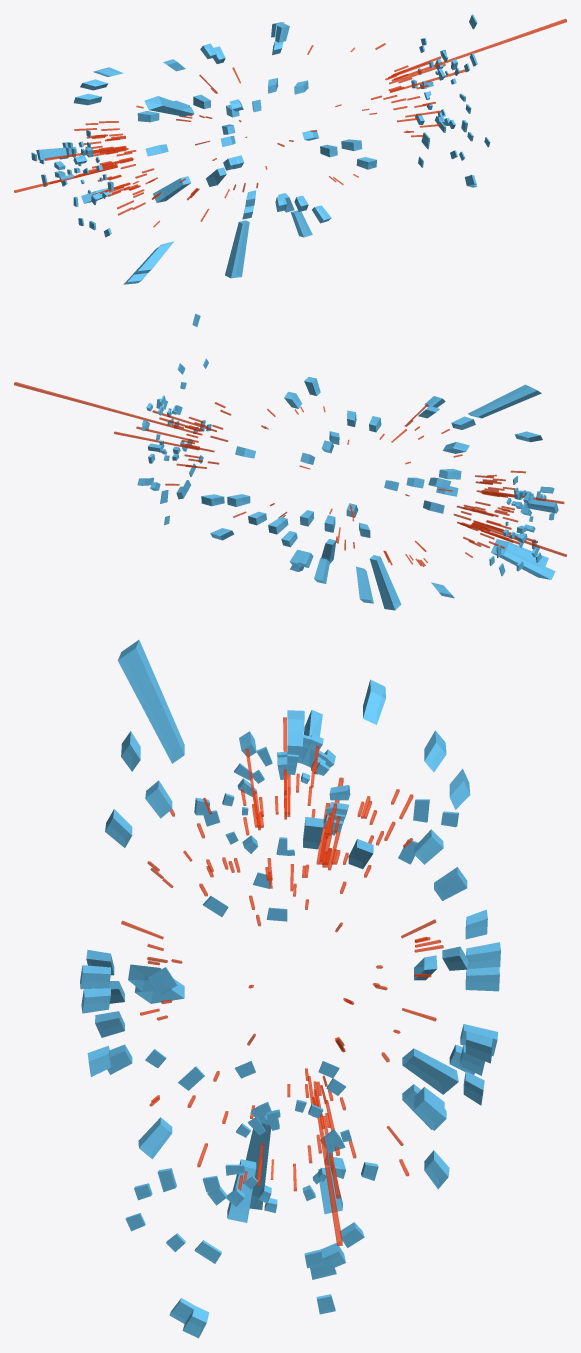
Rendered from Event_100608114_calo.fbx.
3 views of the same model, one above another, from view 1: azimuth 30°, elevation 25°; view 2: azimuth 150°, elevation 25°; view 3: azimuth 270°, elevation 25° (orthographic). The views are drawn at different scales.
Parts seen in each view (by area): view 1: Model; view 2: Model; view 3: Model.
Part boxes in pixels (x1=…): Model: x1=14, y1=14, x2=566, y2=284; Model: x1=14, y1=313, x2=566, y2=610; Model: x1=80, y1=640, x2=500, y2=1338.
Size of the model in its own units: 32.75 by 12.92 by 10.83.
